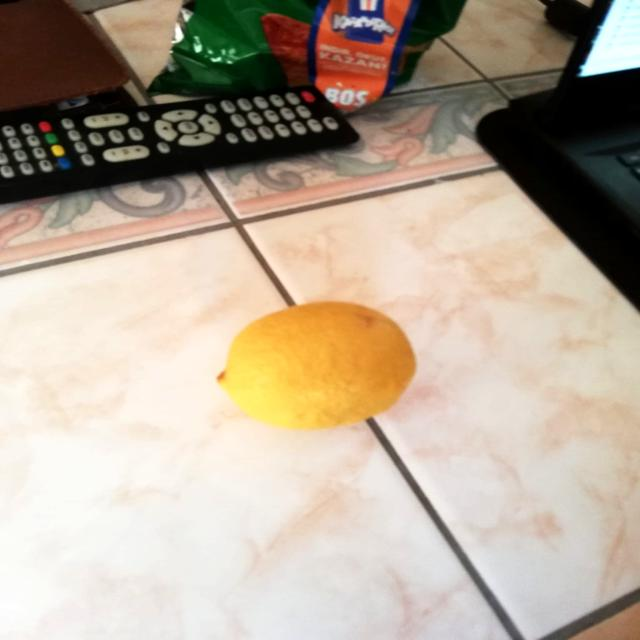lemon: (213, 295, 422, 437)
